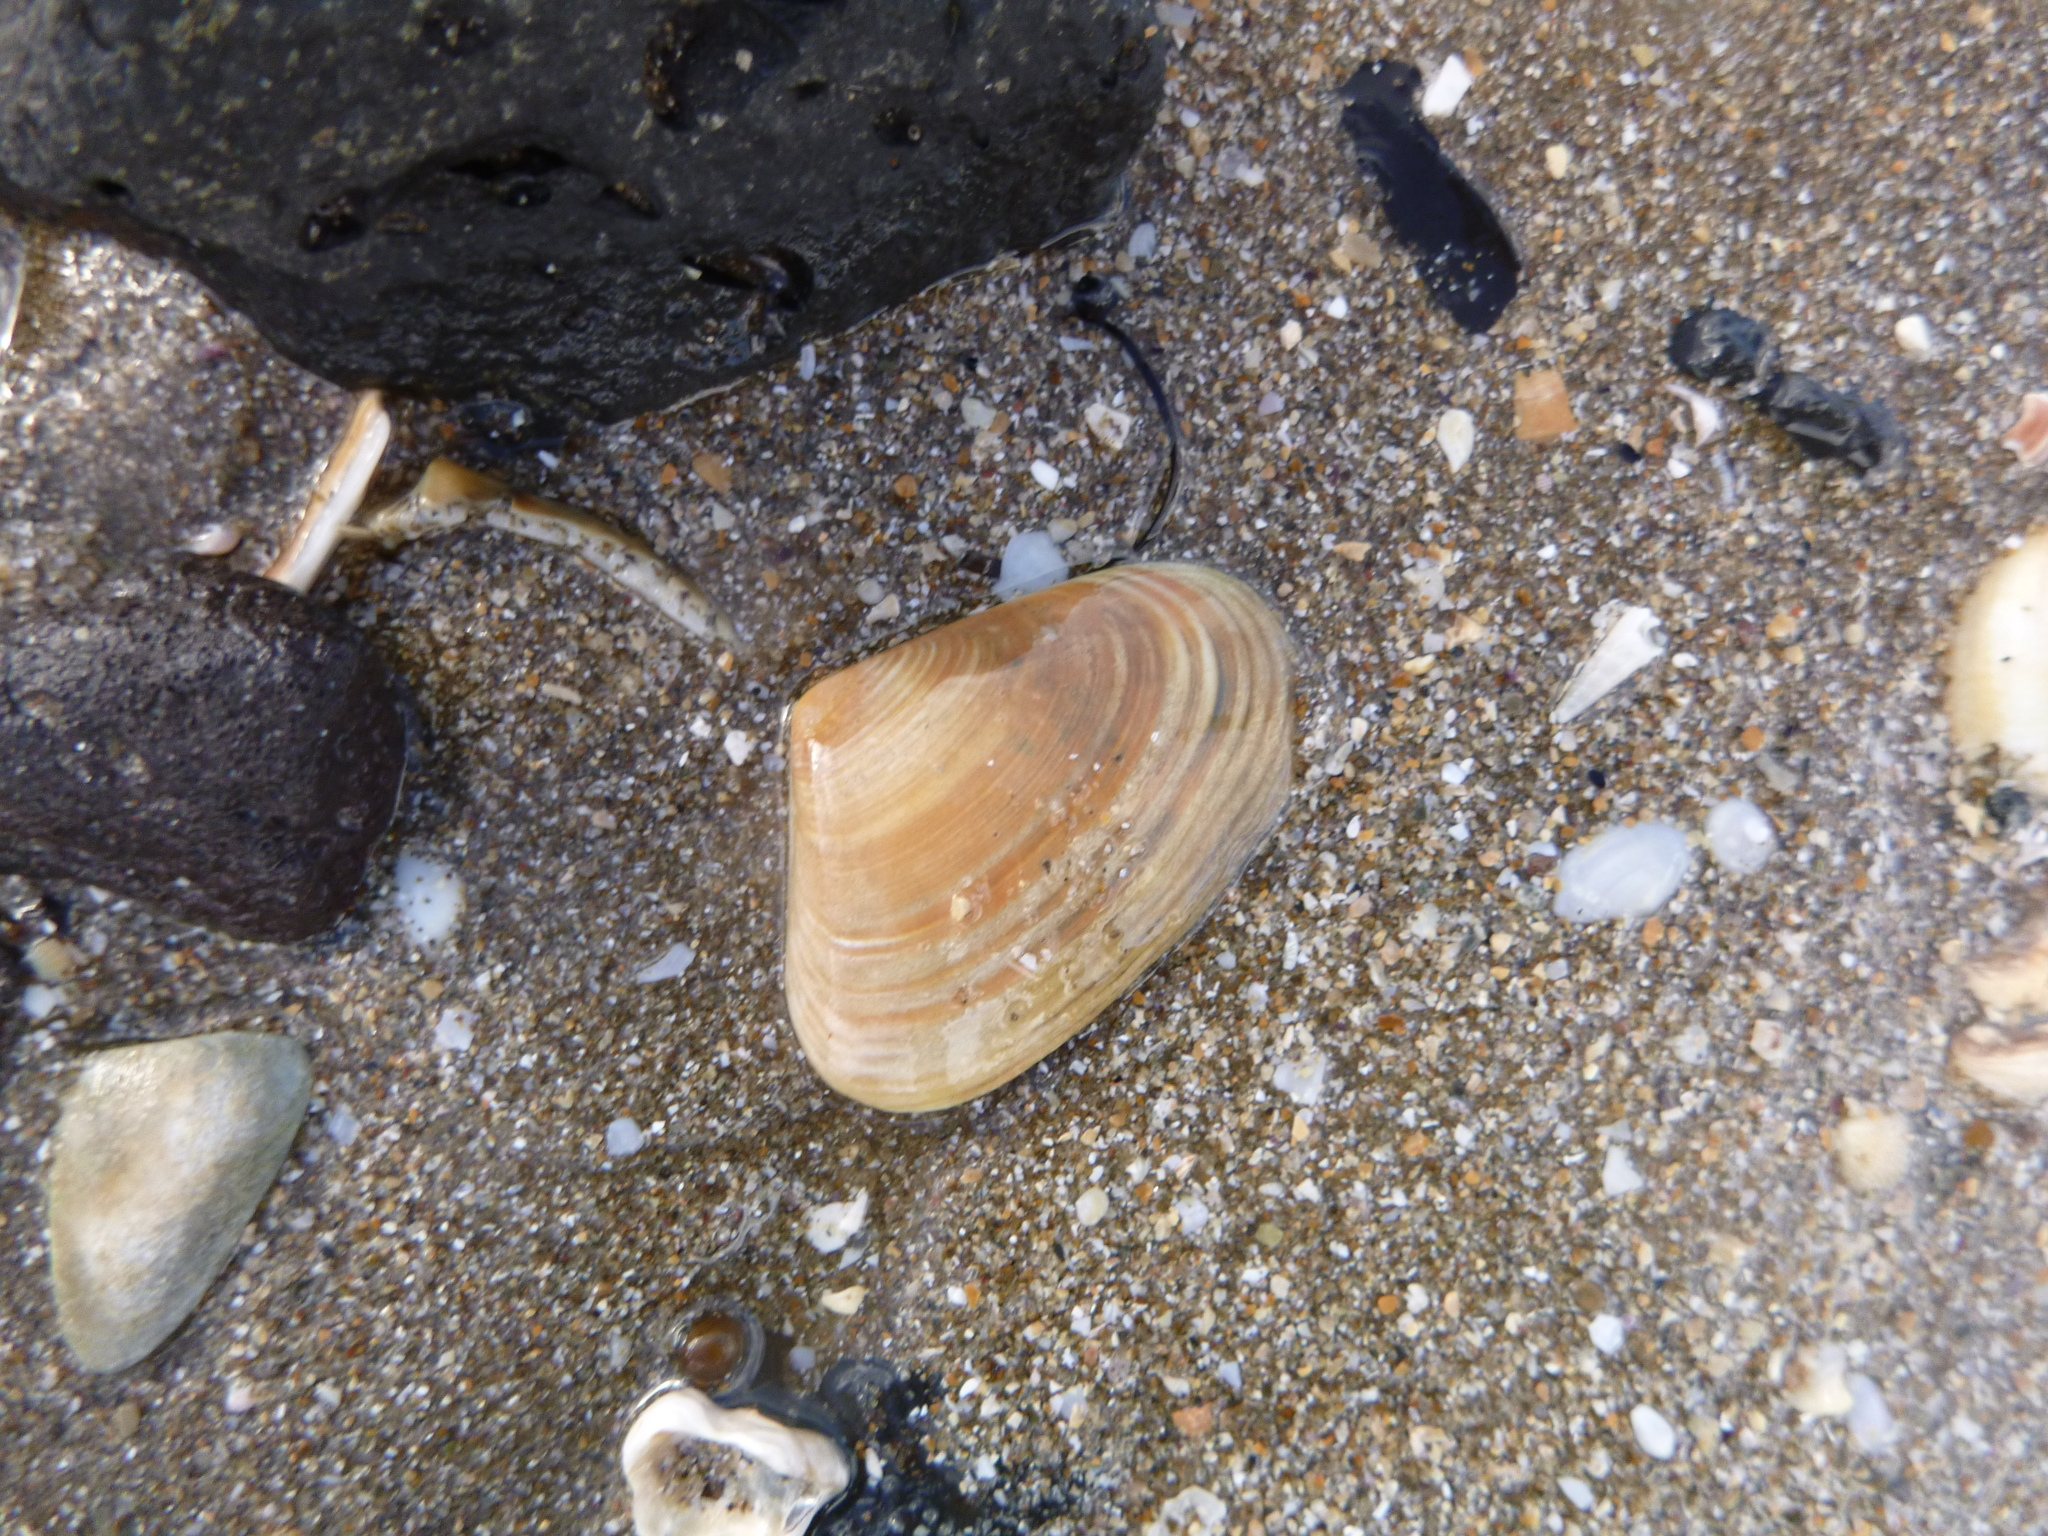tuatua: (769, 549, 1316, 1123)
